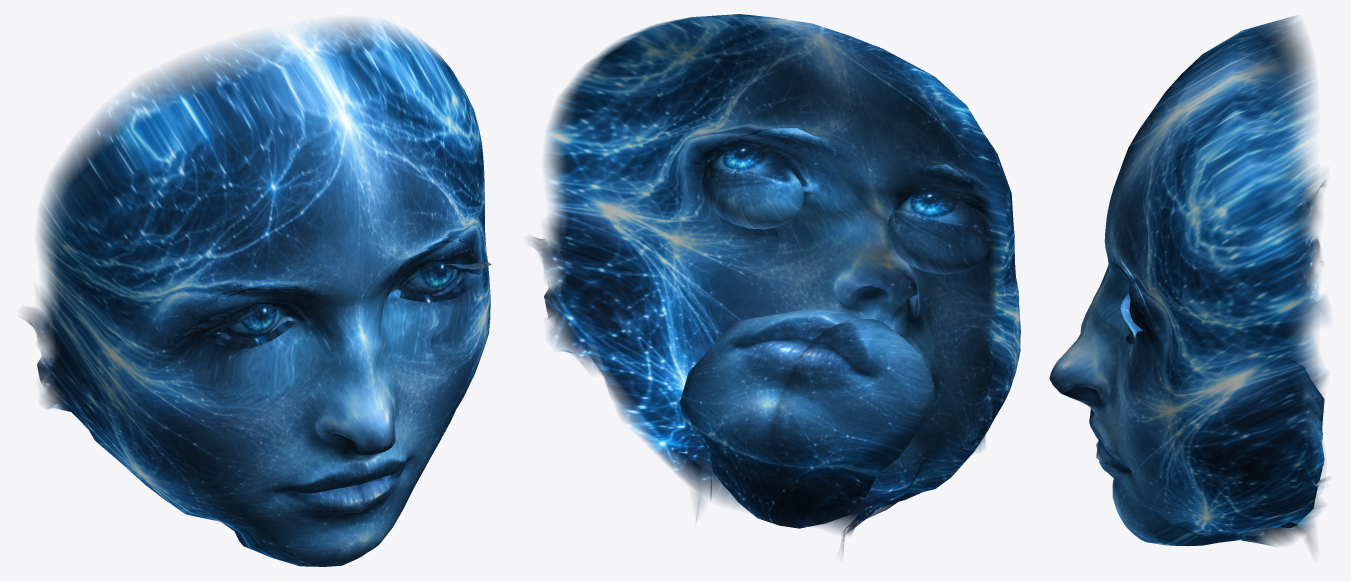
The model's file is user-mask-0ed7cc61f802.glb.
3 views of the same model, side by side, from view 1: azimuth 30°, elevation 25°; view 2: azimuth 150°, elevation 25°; view 3: azimuth 270°, elevation 25° (orthographic). The views are drawn at different scales.
Visible parts, largest first — view 1: UserAcceptedMask; view 2: UserAcceptedMask; view 3: UserAcceptedMask.
Part boxes in pixels (x1,y1,x2,y2): UserAcceptedMask: (22, 20, 491, 566); UserAcceptedMask: (530, 14, 1020, 551); UserAcceptedMask: (1049, 16, 1327, 548).
Bounding box in the file's own units: 0.2346 × 0.2356 × 0.1272.
3 materials, 1 textured.
